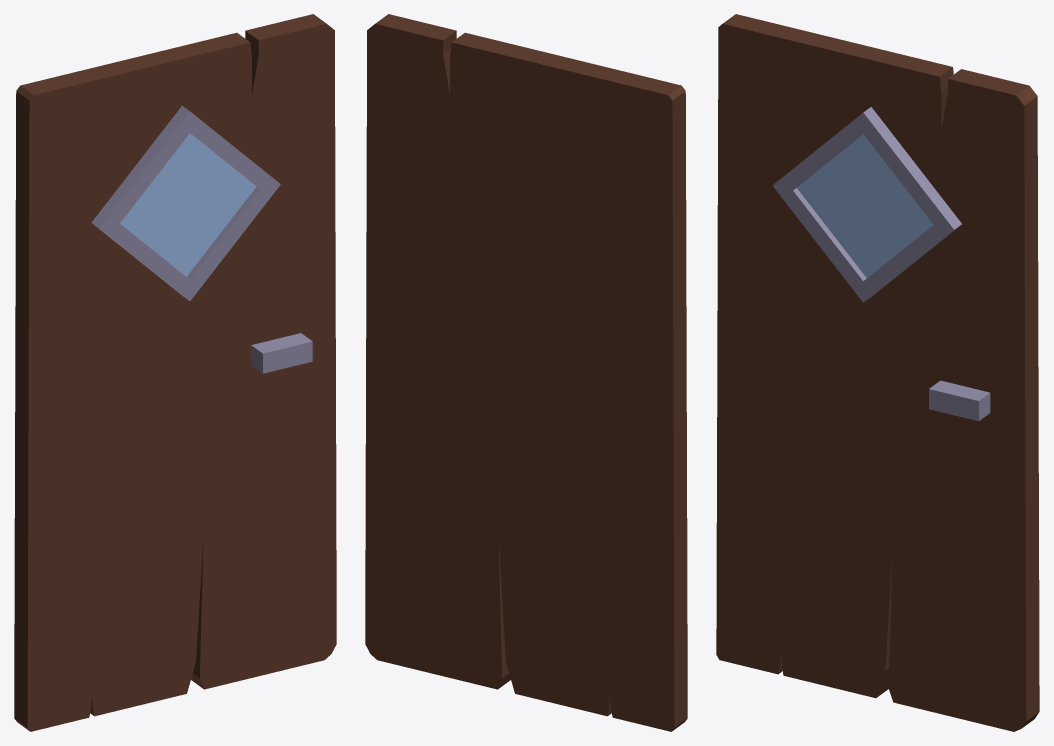
Rendered from door.fbx.
The picture shows the model from 3 angles, left to right: view 1: azimuth 30°, elevation 25°; view 2: azimuth 150°, elevation 25°; view 3: azimuth 330°, elevation 25°; orthographic projection.
Parts seen in each view (by area): view 1: door; view 2: door; view 3: door.
Boxes of the visible parts, x1,y1,x2,y2 form: door: (14,14,336,731); door: (365,14,687,731); door: (716,14,1039,731).
Size of the model in its own units: 113 by 223 by 15.84.
